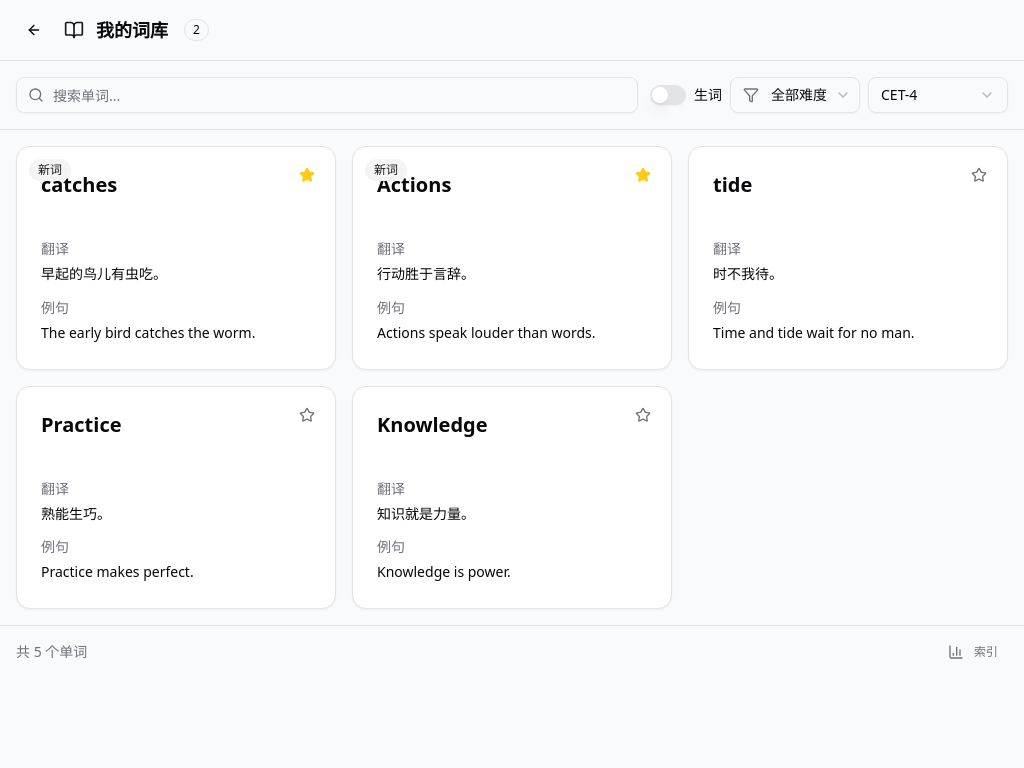
Test case: DictionaryBrowser › 只看生词 filter › combines marked filter with search
Expected: the text "catches" is shown, x1=41 y1=171 x2=117 y2=198
# Enable marked filter
Click the switch.
click(668, 95)  # box x1=650 y1=85 x2=686 y2=105
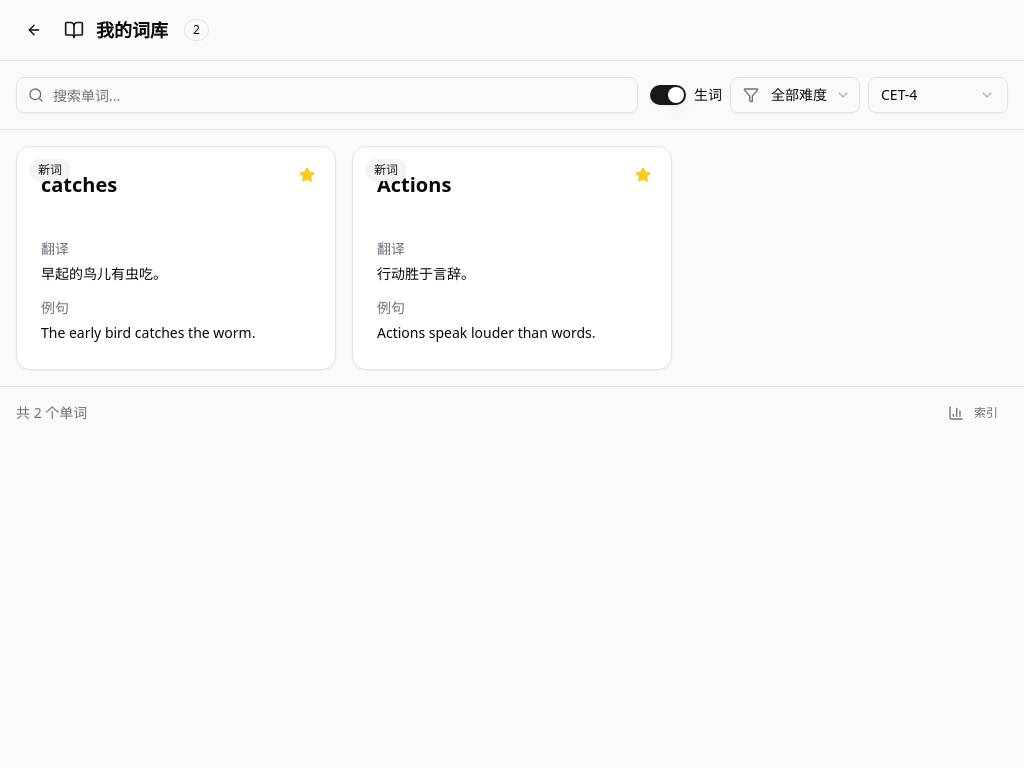
Expected: the text "catches" is shown, x1=41 y1=171 x2=117 y2=198
Expected: the text "Actions" is shown, x1=377 y1=171 x2=451 y2=198
# Apply search filter
Type "catches" into the field with placeholder "搜索单词...".
click(327, 95); type("catches")  # box x1=16 y1=77 x2=638 y2=113
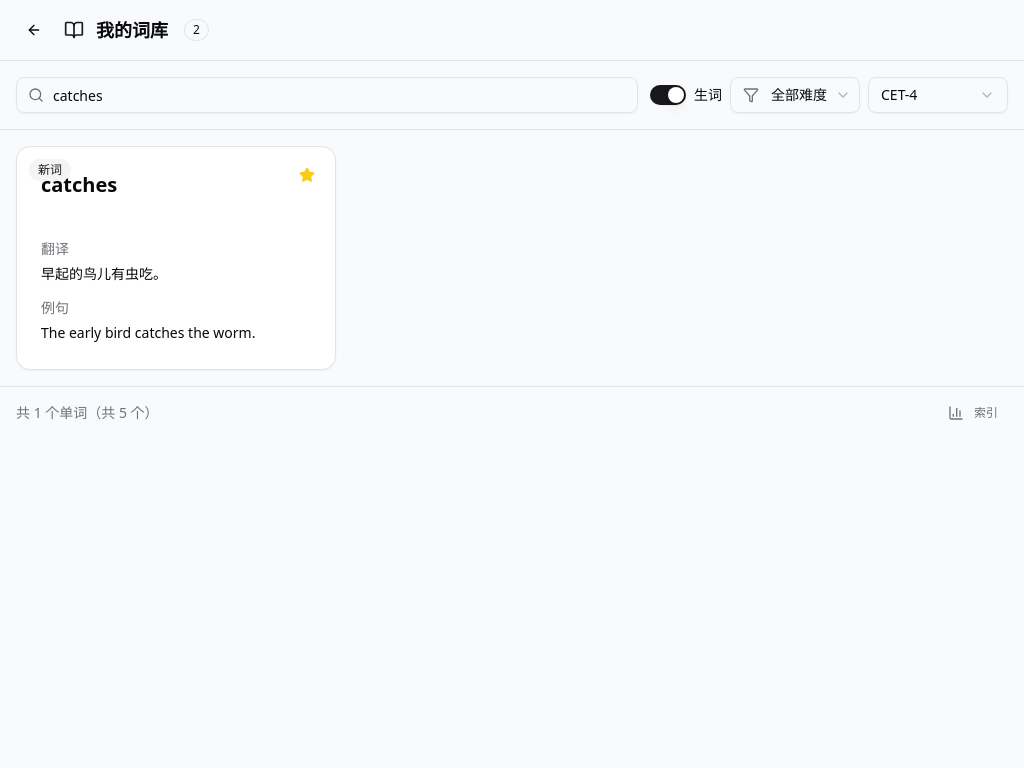
Expected: the text "catches" is shown, x1=41 y1=171 x2=117 y2=198
Expected: the text "Actions" is gone
